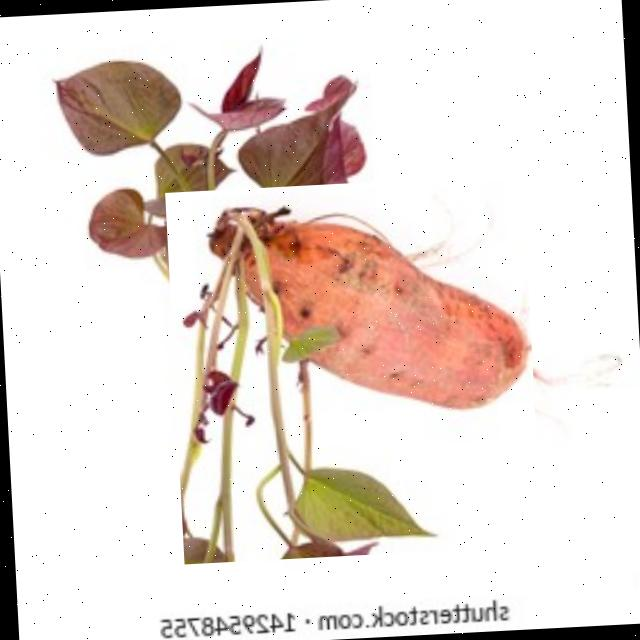Sprouted potato: (164, 174, 541, 564)
